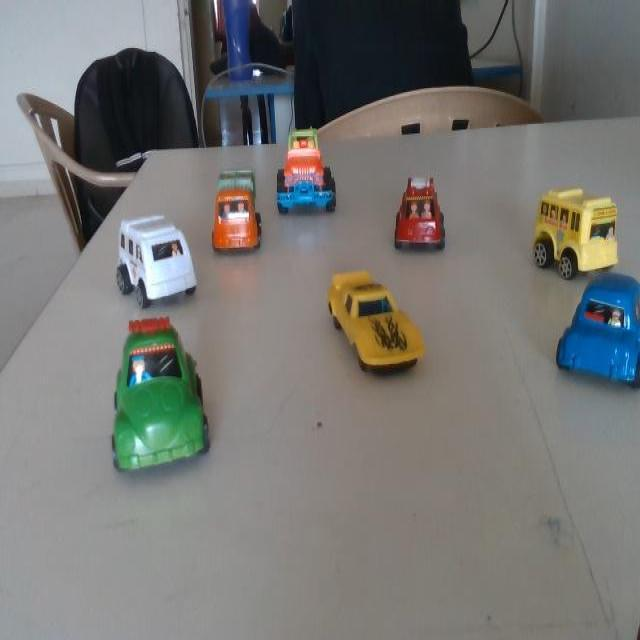car: (38, 286, 255, 546), (291, 257, 447, 400), (99, 198, 207, 332), (562, 275, 639, 388), (271, 115, 352, 217), (524, 190, 607, 286), (203, 154, 268, 270), (385, 171, 449, 261)
